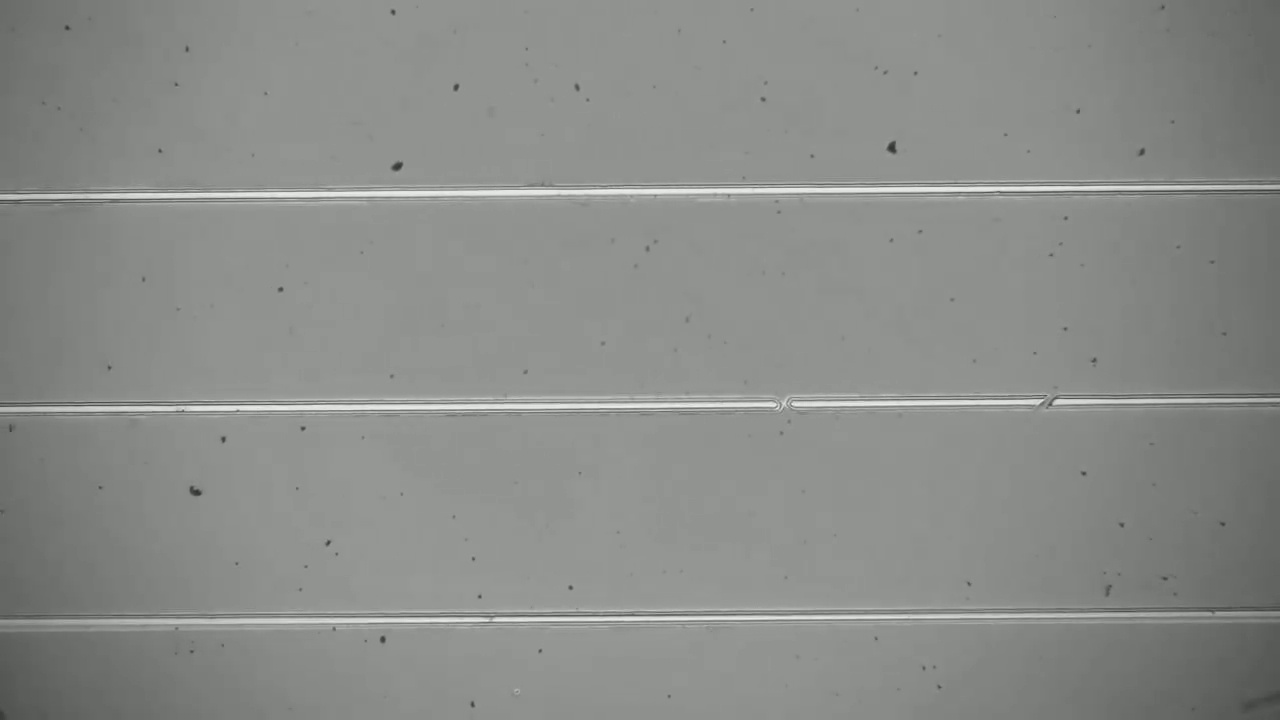open: (760, 384, 811, 427), (1029, 385, 1074, 416)
